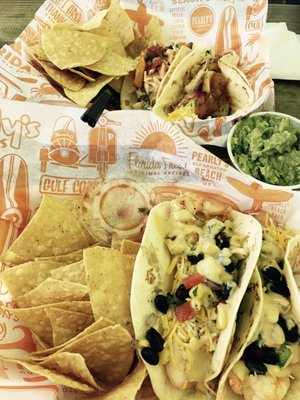curry: (227, 112, 300, 187)
